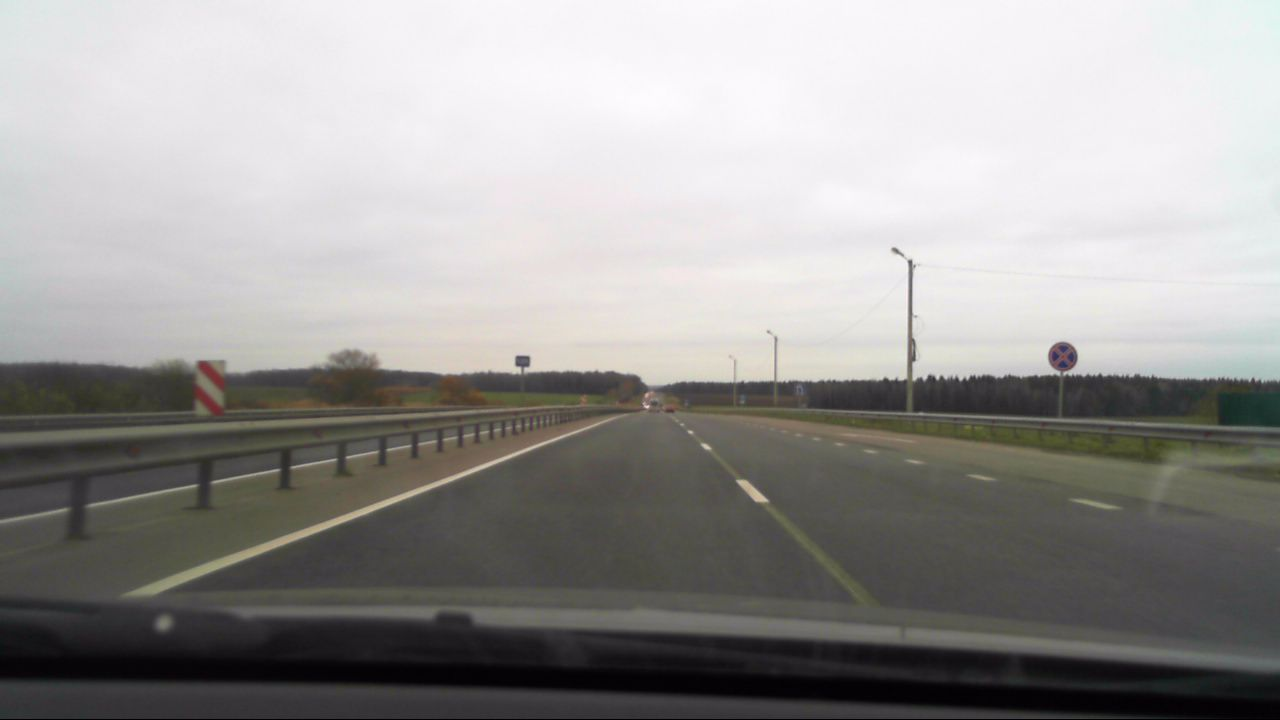No Parking: (1046, 341, 1078, 373)
